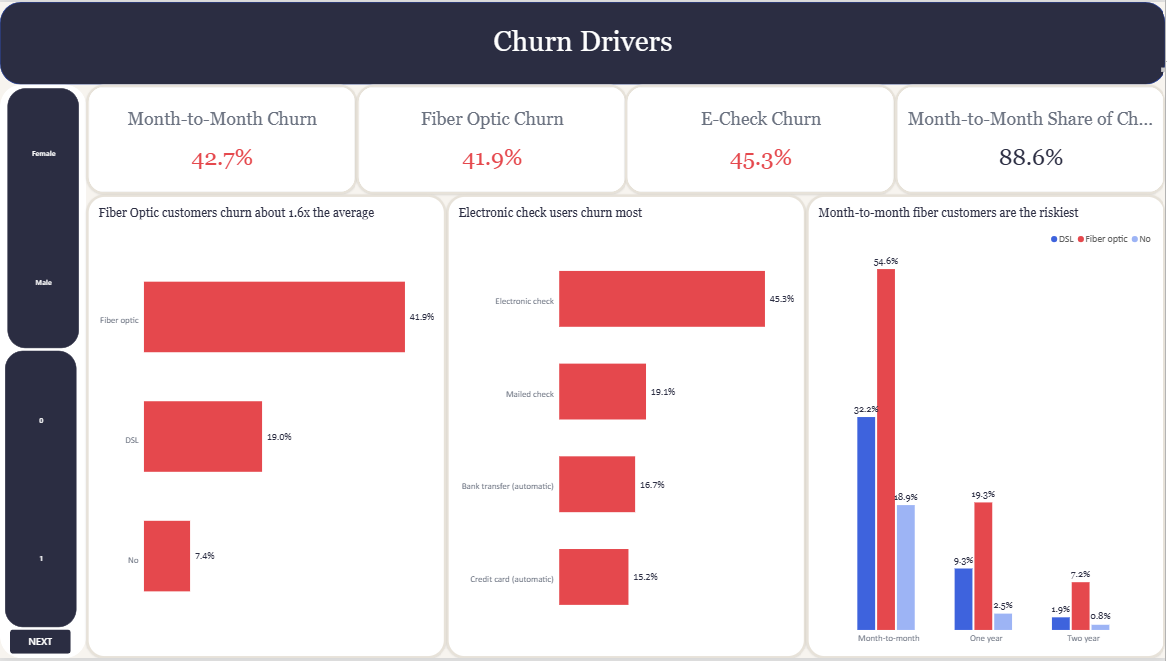

What the dashboard file says about the page in this screenshot:
{"tool":"powerbi","page":{"name":"Churn Drivers","canvas":[1920,1080],"ordinal":1},"visuals":[{"type":"shape","box":[0,0,1920.4,135.8],"z":0},{"type":"textbox","title":"Churn Drivers","box":[0,39.1,1920,76.2],"z":1000},{"type":"shape","box":[0,135.2,142,944.8],"z":2000},{"type":"slicer","fields":{"Values":["telco_churn.gender"]},"box":[12.3,142,117.3,428.1],"z":3000},{"type":"slicer","fields":{"Values":["telco_churn.SeniorCitizen"]},"box":[8.2,574.3,117.3,454.9],"z":4000},{"type":"actionButton","box":[16.5,1033.3,100,40],"z":5000},{"type":"cardVisual","fields":{"Data":["telco_churn.Month-to-Month Churn"]},"box":[142,135.8,446.7,181.1],"z":6000},{"type":"cardVisual","fields":{"Data":["telco_churn.Fiber Optic Churn"]},"box":[585.9,135.8,446.7,181.1],"z":7000},{"type":"cardVisual","fields":{"Data":["telco_churn.E-Check Churn"]},"box":[1029.8,135.8,446.7,181.1],"z":8000},{"type":"cardVisual","fields":{"Data":["telco_churn.Month-to-Month Share of Churners"]},"box":[1473.3,135.8,446.7,181.1],"z":9000},{"type":"clusteredBarChart","title":"Electronic check users churn most","fields":{"Category":["telco_churn.PaymentMethod"],"Y":["telco_churn.Churn Rate"]},"box":[734.8,316.4,592.8,763.6],"z":10000},{"type":"clusteredBarChart","title":"Fiber Optic customers churn about 1.6x the average","fields":{"Category":["telco_churn.InternetService"],"Y":["telco_churn.Churn Rate"]},"box":[142,316.4,592.8,763.6],"z":11000},{"type":"clusteredColumnChart","title":"Month-to-month fiber customers are the riskiest","fields":{"Category":["telco_churn.Contract"],"Series":["telco_churn.InternetService"],"Y":["telco_churn.Churn Rate"]},"box":[1327.2,316.4,592.8,763.6],"z":11001}]}

Visuals, with their boxes in screenshot pixels (x1, y1, x2, y2), scaled from the page's 1920x1080 canvas onto the 1167x661 screenshot:
shape: region(0, 0, 1166, 83)
"Churn Drivers" textbox: region(0, 24, 1166, 71)
shape: region(0, 83, 86, 660)
slicer - telco_churn.gender: region(7, 87, 79, 349)
slicer - telco_churn.SeniorCitizen: region(5, 351, 76, 630)
actionButton: region(10, 632, 71, 657)
cardVisual - telco_churn.Month-to-Month Churn: region(86, 83, 358, 194)
cardVisual - telco_churn.Fiber Optic Churn: region(356, 83, 628, 194)
cardVisual - telco_churn.E-Check Churn: region(626, 83, 897, 194)
cardVisual - telco_churn.Month-to-Month Share of Churners: region(895, 83, 1166, 194)
"Electronic check users churn most" clusteredBarChart: region(447, 194, 807, 660)
"Fiber Optic customers churn about 1.6x the average" clusteredBarChart: region(86, 194, 447, 660)
"Month-to-month fiber customers are the riskiest" clusteredColumnChart: region(807, 194, 1166, 660)
